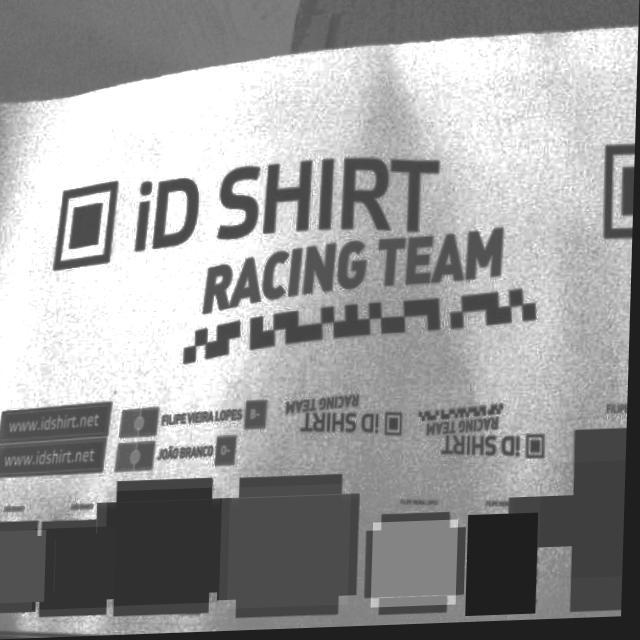qr_code: (231, 486, 354, 611), (108, 489, 225, 607), (542, 465, 629, 584), (375, 523, 462, 611), (469, 517, 542, 620), (36, 527, 120, 611), (0, 530, 50, 604)
